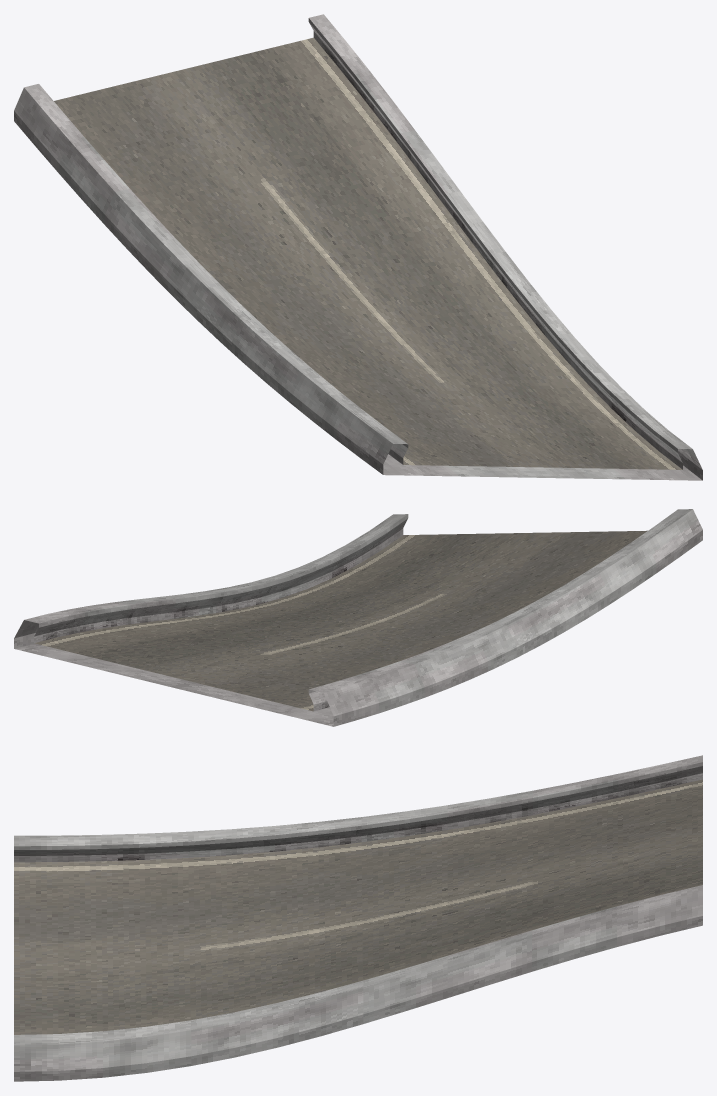
File: straight2.glb
3 renders of one model, top to bottom at view 1: azimuth 30°, elevation 25°; view 2: azimuth 150°, elevation 25°; view 3: azimuth 270°, elevation 25°, orthographic. The views are drawn at different scales.
Visible parts, largest first — view 1: road-Straight-HalfBankedRight-BiSlopeUp-Up2-Center-Size2; view 2: road-Straight-HalfBankedRight-BiSlopeUp-Up2-Center-Size2; view 3: road-Straight-HalfBankedRight-BiSlopeUp-Up2-Center-Size2.
Boxes of the visible parts, left/top/right/bottom form: road-Straight-HalfBankedRight-BiSlopeUp-Up2-Center-Size2: left=14, top=14, right=702, bottom=480; road-Straight-HalfBankedRight-BiSlopeUp-Up2-Center-Size2: left=14, top=509, right=702, bottom=726; road-Straight-HalfBankedRight-BiSlopeUp-Up2-Center-Size2: left=14, top=755, right=702, bottom=1081.
Bounding box in the file's own units: 1 × 0.5937 × 2.
Materials: 2 (2 with a texture image).
